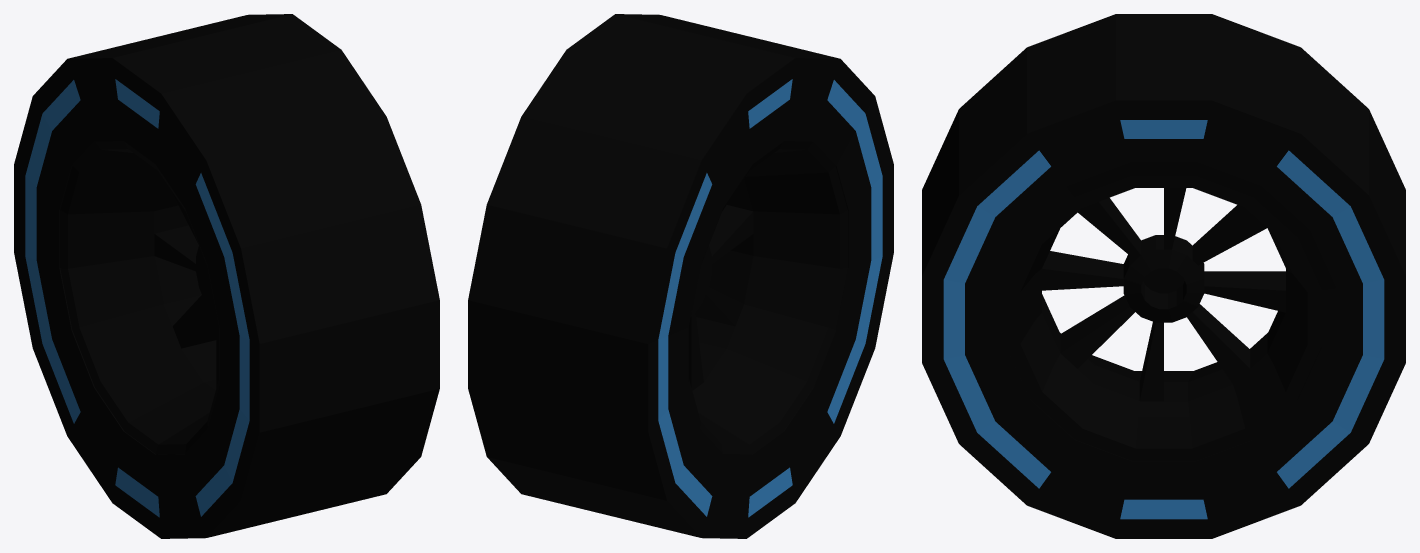
The model's file is front-tyre.glb.
3 renders of one model, left to right at view 1: azimuth 30°, elevation 25°; view 2: azimuth 150°, elevation 25°; view 3: azimuth 270°, elevation 25°, orthographic.
Visible parts, largest first — view 1: Tyre; view 2: Tyre; view 3: Tyre.
Part boxes in pixels (<box>): Tyre: <box>14,14,439,538</box>; Tyre: <box>468,14,893,538</box>; Tyre: <box>922,14,1405,538</box>.
Bounding box in the file's own units: 0.305 × 0.72 × 0.72.
